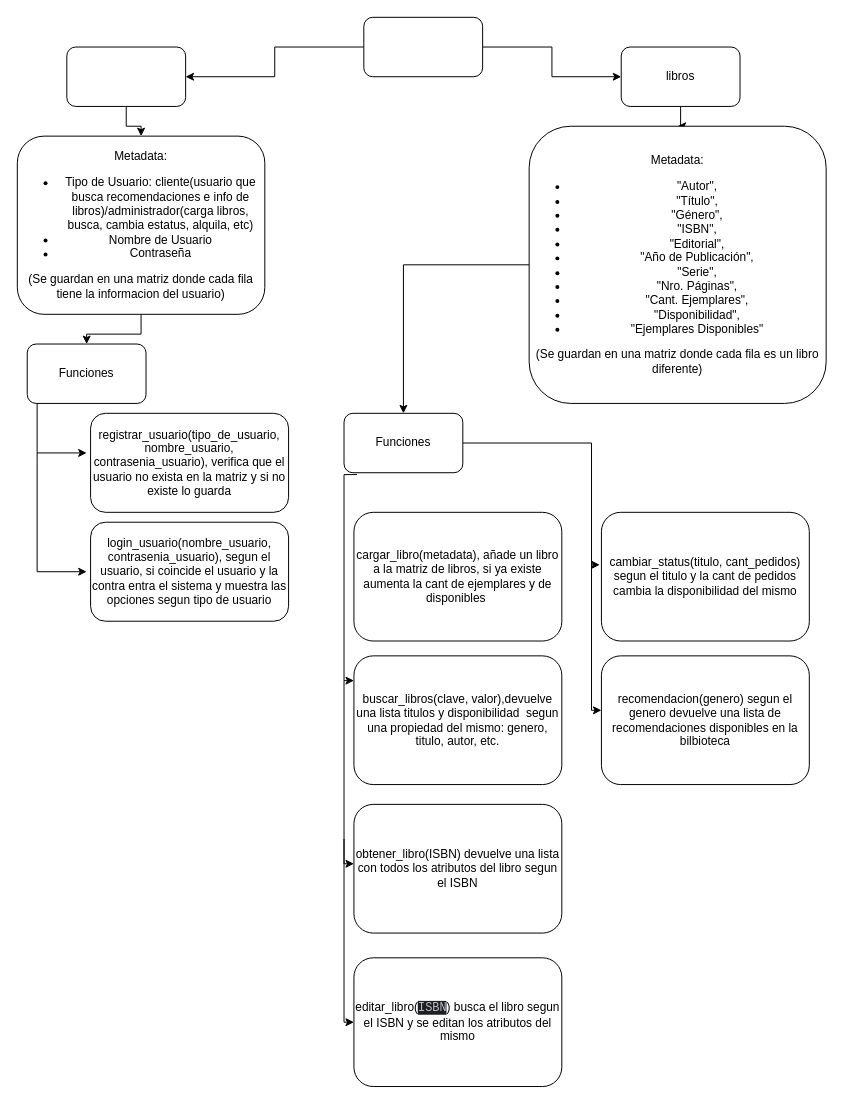
This 843x1104 diagram has some shape labels left out. Each missing label, with the centre of its shape:
"SISTEMA DE GESTION DE BIBLIOTECA" goes at point (423, 46).
"usuarios" goes at point (126, 76).
